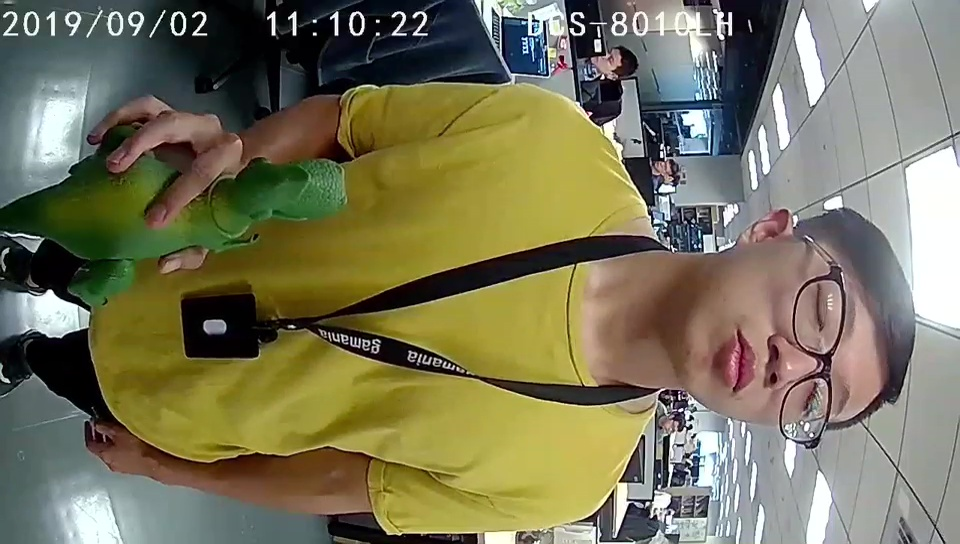rex: (63, 153, 346, 309)
